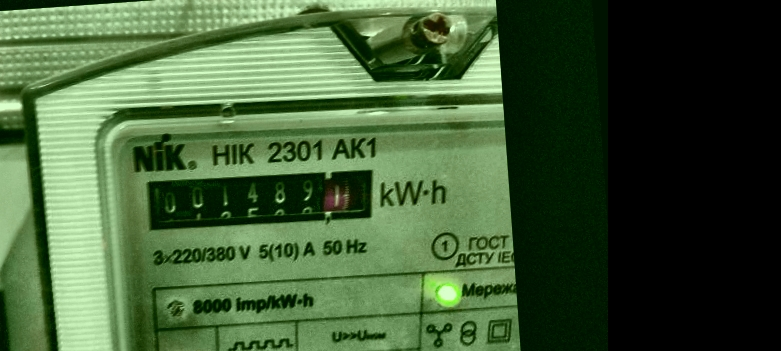0: (187, 182, 205, 208), (160, 188, 177, 214)
1: (216, 179, 232, 209), (328, 177, 342, 208)
4: (243, 178, 261, 205)
8: (269, 176, 288, 204)
9: (298, 176, 314, 202)
screen: (130, 153, 391, 247)
